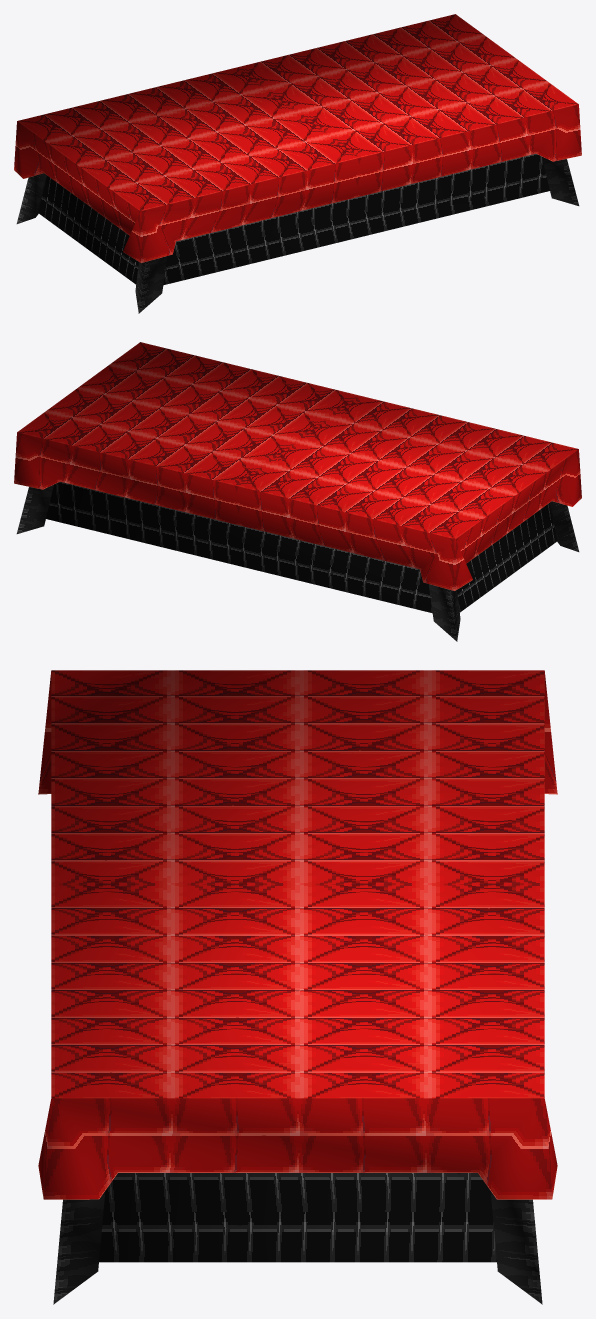
Rendered from 3163IMFY04_05.gltf.
The picture shows the model from 3 angles, top to bottom: view 1: azimuth 30°, elevation 25°; view 2: azimuth 150°, elevation 25°; view 3: azimuth 270°, elevation 25°; orthographic projection. The views are drawn at different scales.
Visible parts, largest first — view 1: 3163IMFY04_05; view 2: 3163IMFY04_05; view 3: 3163IMFY04_05.
Part boxes in pixels (<box>): 3163IMFY04_05: <box>14,14,581,313</box>; 3163IMFY04_05: <box>14,342,581,641</box>; 3163IMFY04_05: <box>38,670,557,1304</box>.
Size of the model in its own units: 2 by 0.4365 by 1.
Materials: 4 (4 with a texture image).
